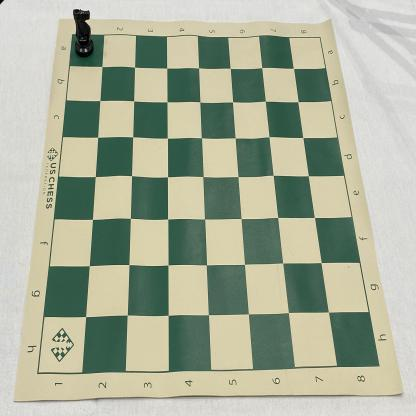black-knight: (72, 8, 96, 58)
